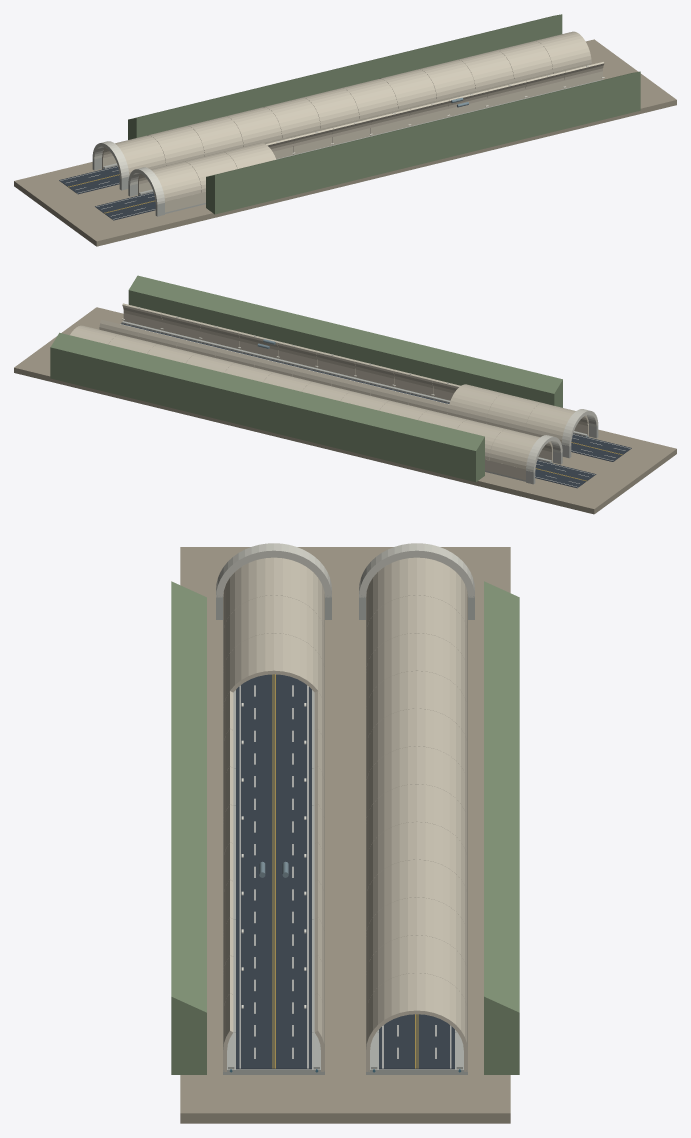
File: tunnel.glb
The picture shows the model from 3 angles, top to bottom: view 1: azimuth 30°, elevation 25°; view 2: azimuth 150°, elevation 25°; view 3: azimuth 270°, elevation 25°; orthographic projection. The views are drawn at different scales.
Visible parts, largest first — view 1: 洞口边坡剖切 (×2), 洞口地形切片, 沥青铺装 / 80 mm (×2), 检修道 / 排水沟盖板, 衬砌边墙; view 2: 洞口边坡剖切 (×2), 洞口地形切片, 沥青铺装 / 80 mm (×2), 检修道 / 排水沟盖板, 衬砌边墙, 道路边缘实线; view 3: 洞口地形切片, 洞口边坡剖切 (×2), 沥青铺装 / 80 mm (×2), 检修道 / 排水沟盖板 (×2).
Boxes of the visible parts, <box> form: 洞口边坡剖切 (×2): <box>128,14,640,214</box>; 洞口地形切片: <box>14,39,676,246</box>; 沥青铺装 / 80 mm (×2): <box>59,166,155,220</box>; 检修道 / 排水沟盖板: <box>139,79,603,194</box>; 衬砌边墙: <box>165,193,201,212</box>; 洞口边坡剖切 (×2): <box>50,275,562,482</box>; 洞口地形切片: <box>14,307,676,514</box>; 沥青铺装 / 80 mm (×2): <box>121,323,631,488</box>; 检修道 / 排水沟盖板: <box>121,321,587,436</box>; 衬砌边墙: <box>489,460,525,480</box>; 道路边缘实线: <box>120,324,630,448</box>; 洞口地形切片: <box>180,547,510,1123</box>; 洞口边坡剖切 (×2): <box>171,581,519,1074</box>; 沥青铺装 / 80 mm (×2): <box>236,674,454,1069</box>; 检修道 / 排水沟盖板 (×2): <box>228,692,319,1069</box>.
Bounding box in the file's own units: 150 × 11.05 × 39.
